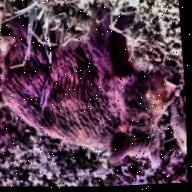boar: (0, 0, 190, 180)
